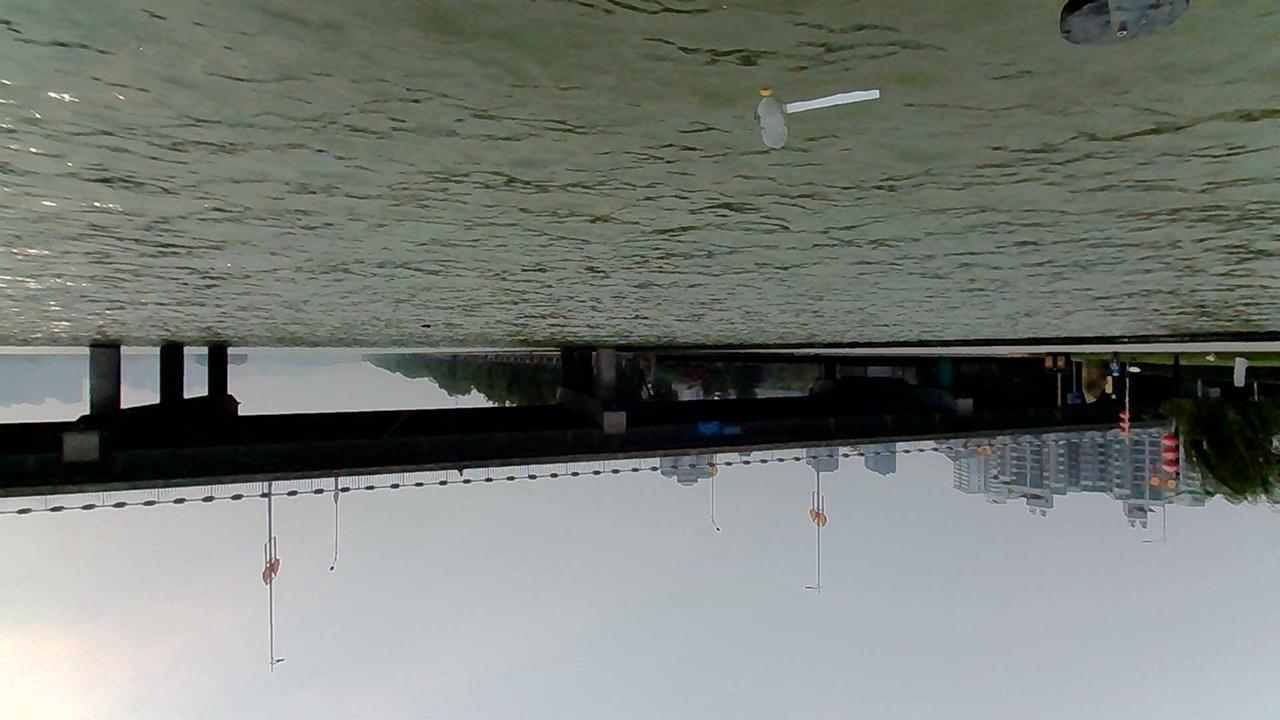Plastic: (785, 87, 882, 115), (756, 88, 789, 151)
